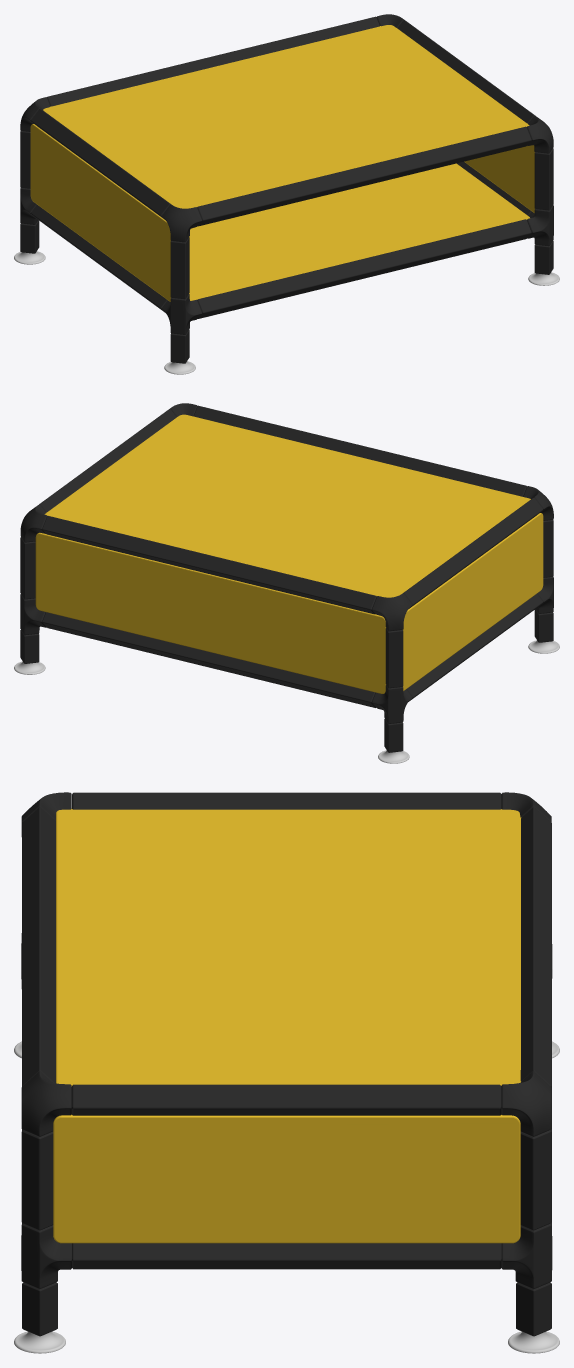
3 views of the same model, one above another, from view 1: azimuth 30°, elevation 25°; view 2: azimuth 150°, elevation 25°; view 3: azimuth 270°, elevation 25° (orthographic). The views are drawn at different scales.
Parts seen in each view (by area): view 1: 479x329x79; view 2: 479x329x79; view 3: 479x329x79.
Boxes of the visible parts, x1=… form: 479x329x79: x1=14, y1=14, x2=559, y2=374; 479x329x79: x1=14, y1=403, x2=559, y2=763; 479x329x79: x1=14, y1=792, x2=559, y2=1353.
Bounding box in the file's own units: 0.5689 × 0.2183 × 0.4182.
